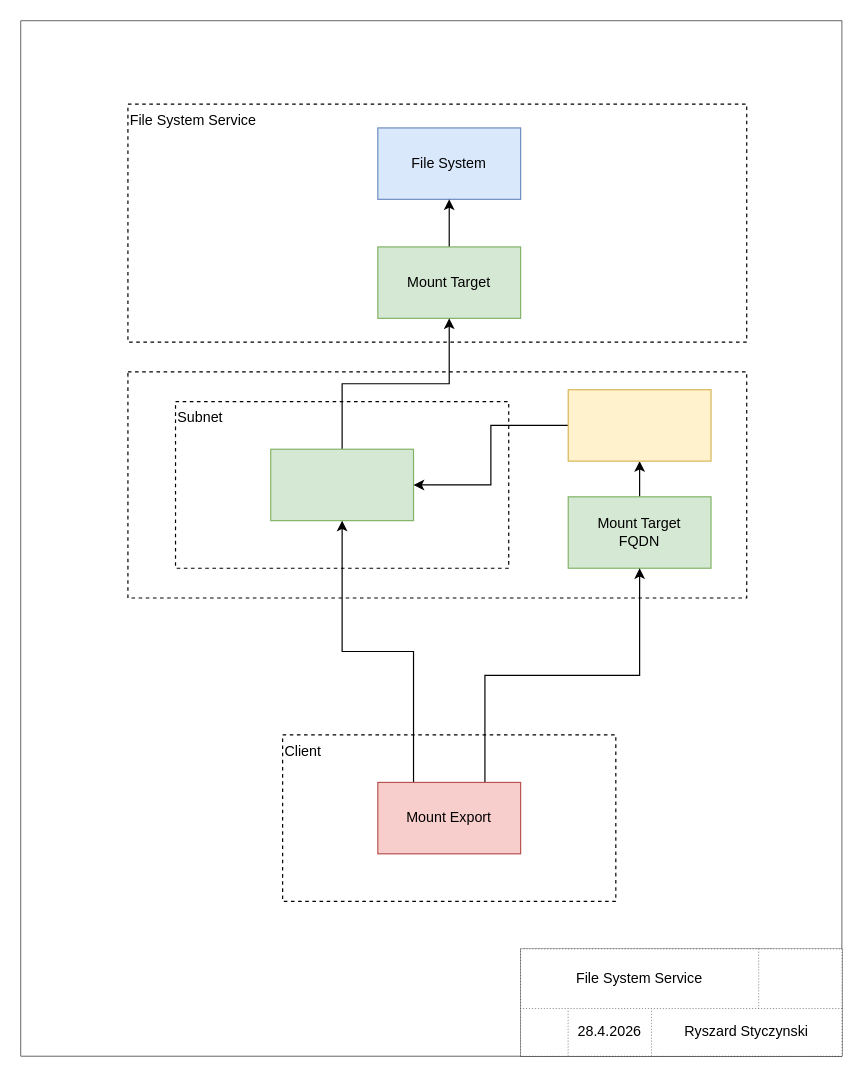
Image size: 863x1077. Some labels were removed from this diagram. The shapes that lost their labels are listed below. From the top down, each one's box as (x1, y1, x2, y2) in pixels, then its label:
(567, 389, 711, 461): DNS
(270, 448, 414, 521): Mount Target IP Address
(127, 371, 747, 598): VCN
(758, 948, 842, 1008): general view
(520, 1008, 568, 1056): v1
